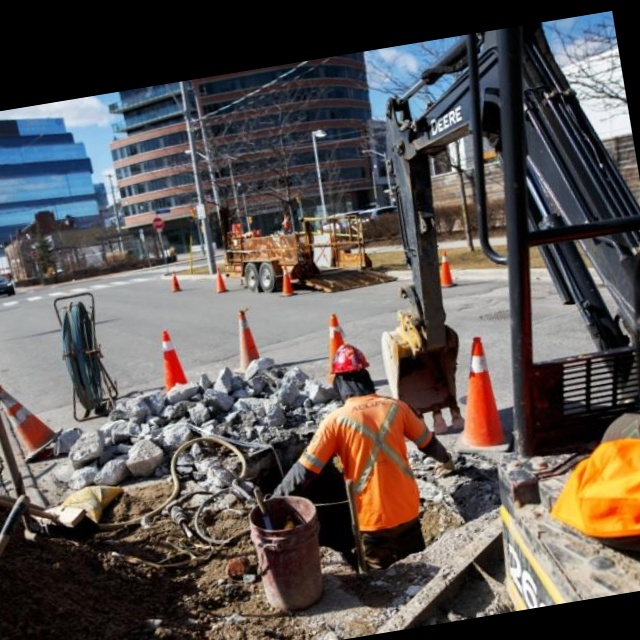Con_Casco: (329, 342, 371, 390)
Con_Chaleco: (332, 392, 424, 522)
